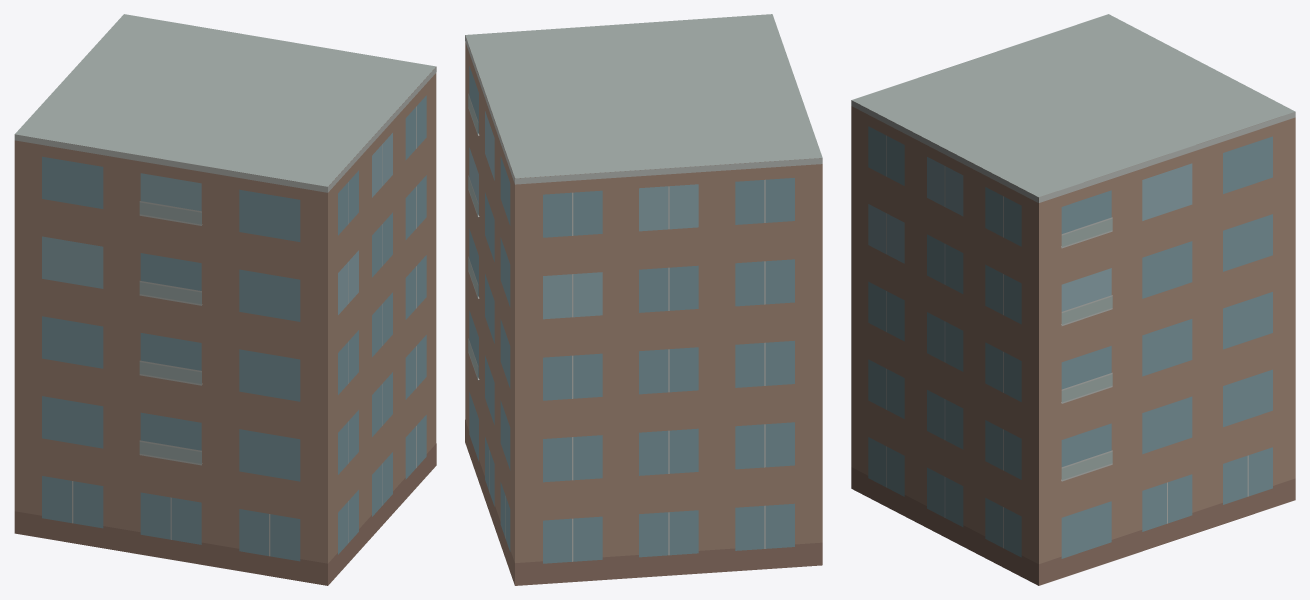
The model's file is survey-upis-32649011.glb.
The picture shows the model from 3 angles, left to right: view 1: azimuth 30°, elevation 25°; view 2: azimuth 150°, elevation 25°; view 3: azimuth 270°, elevation 25°; orthographic projection. The views are drawn at different scales.
Parts seen in each view (by area): view 1: survey-upis-32649011.tmp; view 2: survey-upis-32649011.tmp; view 3: survey-upis-32649011.tmp.
Part boxes in pixels (<box>): survey-upis-32649011.tmp: <box>14,14,436,585</box>; survey-upis-32649011.tmp: <box>465,14,822,585</box>; survey-upis-32649011.tmp: <box>851,14,1295,585</box>.
Bounding box in the file's own units: 16.41 × 16.2 × 16.79.
